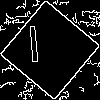I: (25, 25, 43, 72)
